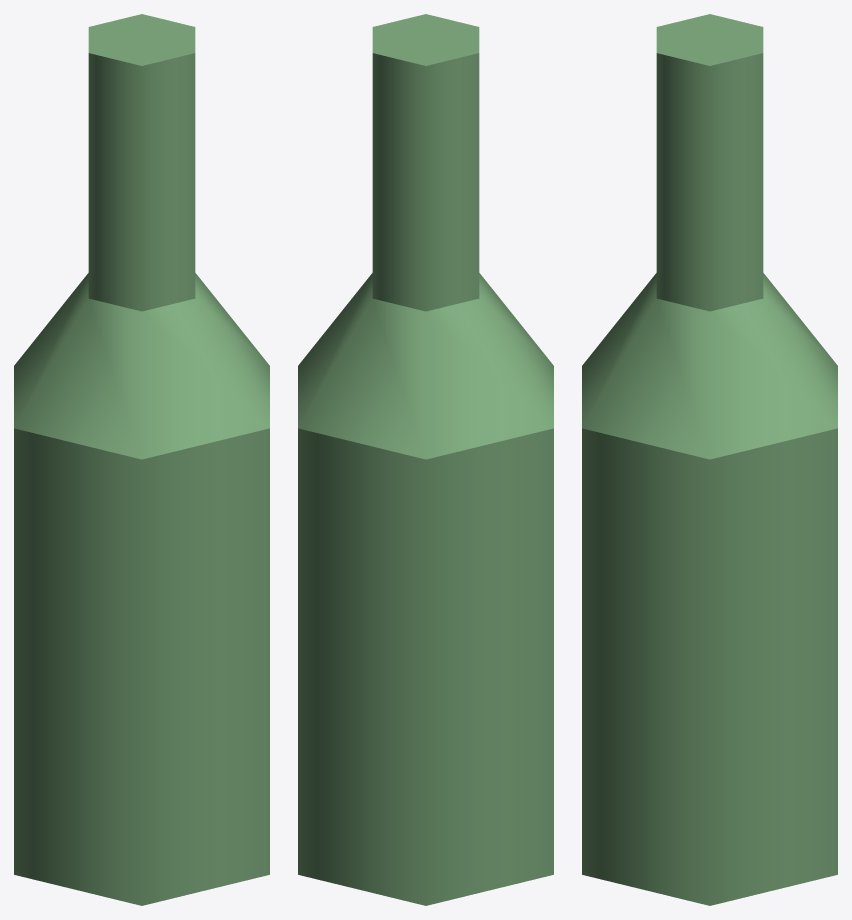
File: bottle.glb
The picture shows the model from 3 angles, left to right: view 1: azimuth 30°, elevation 25°; view 2: azimuth 150°, elevation 25°; view 3: azimuth 270°, elevation 25°; orthographic projection.
Visible parts, largest first — view 1: Bottle; view 2: Bottle; view 3: Bottle.
Boxes of the visible parts, bbox=[...] form: Bottle: bbox=[14, 14, 269, 905]; Bottle: bbox=[298, 14, 553, 905]; Bottle: bbox=[582, 14, 837, 905].
Bounding box in the file's own units: 0.12 × 0.36 × 0.1039.
